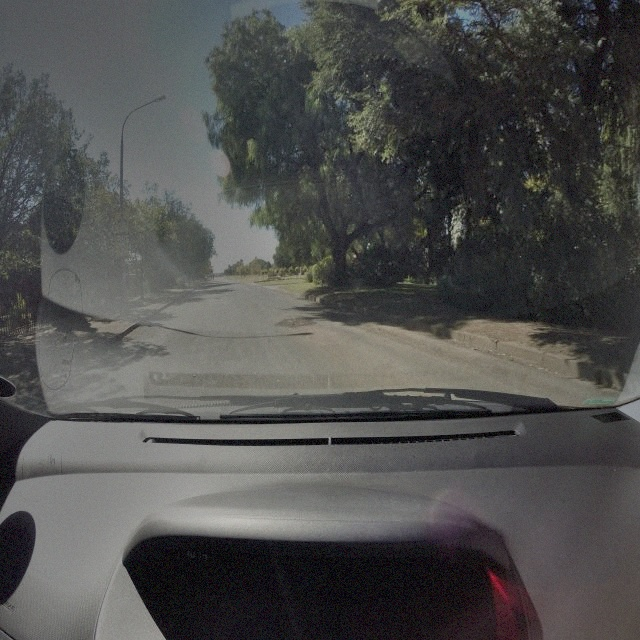pothole: (279, 315, 316, 328)
